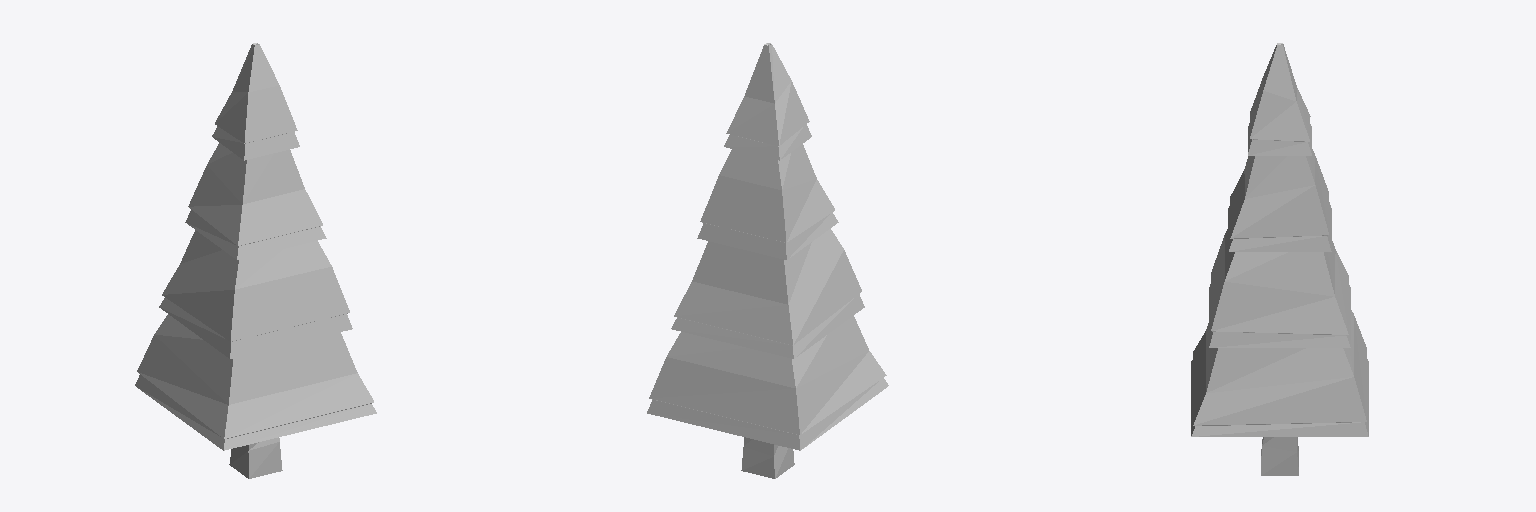
The model's file is Snowy Tree 3.obj.
3 renders of one model, left to right at view 1: azimuth 30°, elevation 25°; view 2: azimuth 150°, elevation 25°; view 3: azimuth 270°, elevation 25°, orthographic.
Visible parts, largest first — view 1: Tree_3_Cube.002; view 2: Tree_3_Cube.002; view 3: Tree_3_Cube.002.
Boxes of the visible parts, x1,y1,x2,y2 form: Tree_3_Cube.002: [135, 43, 376, 478]; Tree_3_Cube.002: [647, 43, 888, 478]; Tree_3_Cube.002: [1191, 43, 1368, 475].
Size of the model in its own units: 2.4 by 6.33 by 2.4.